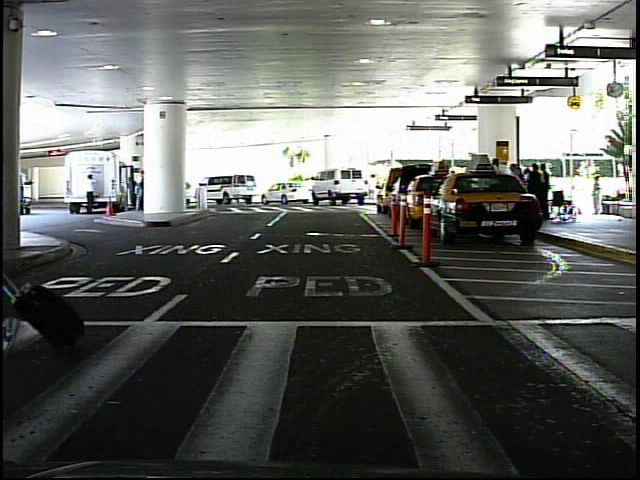person: (82, 170, 101, 216), (590, 172, 606, 218), (367, 170, 379, 202)
